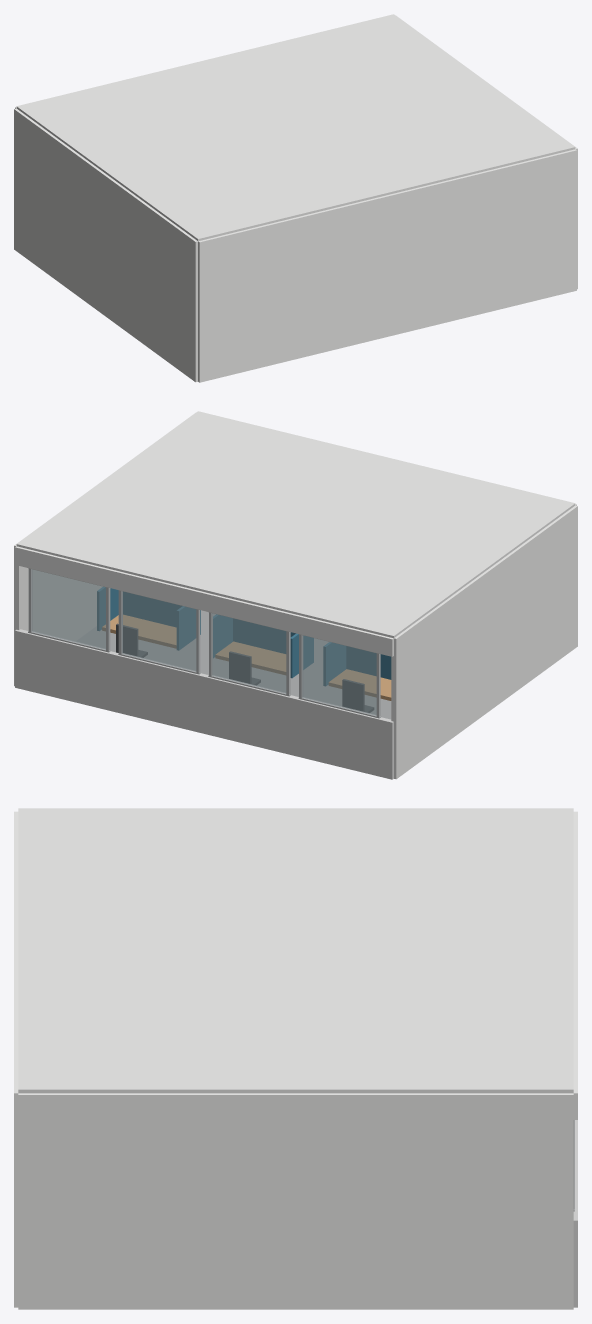
File: office.glb
3 views of the same model, one above another, from view 1: azimuth 30°, elevation 25°; view 2: azimuth 150°, elevation 25°; view 3: azimuth 270°, elevation 25° (orthographic). The views are drawn at different scales.
Parts seen in each view (by area): view 1: OFF_Ceiling, OFF_BackWall, OFF_LeftWall; view 2: OFF_Ceiling, OFF_LeftWall, OFF_FrontLower, OFF_FrontTop, OFF_RightWall, OFF_Floor, OFF_Window_1_Glass, OFF_Window_2_Glass, OFF_Window_3_Glass, OFF_Window_4_Glass, OFF_CubicleBack_3, OFF_CubicleBack_2 (+12 smaller); view 3: OFF_Ceiling, OFF_RightWall, OFF_BackWall, OFF_FrontTop, OFF_FrontLower.
Part boxes in pixels (x1,y1,x2,y2): OFF_Ceiling: (16,14,575,241); OFF_BackWall: (198,149,576,382); OFF_LeftWall: (14,108,197,382); OFF_Ceiling: (16,411,575,638); OFF_LeftWall: (391,505,577,779); OFF_FrontLower: (15,629,393,779); OFF_FrontTop: (15,546,393,656); OFF_RightWall: (14,413,194,686); OFF_Floor: (76,610,391,719); OFF_Window_1_Glass: (302,635,376,715); OFF_Window_2_Glass: (212,613,286,693); OFF_Window_3_Glass: (122,591,196,671); OFF_Window_4_Glass: (31,569,105,649); OFF_CubicleBack_3: (123,592,181,626); OFF_CubicleBack_2: (233,618,295,653); OFF_Ceiling: (18,808,573,1093); OFF_RightWall: (18,1093,573,1309); OFF_BackWall: (14,811,18,1307); OFF_FrontTop: (573,811,577,1119); OFF_FrontLower: (573,1120,577,1307).
Size of the model in its own units: 9.12 by 3.25 by 7.62.
